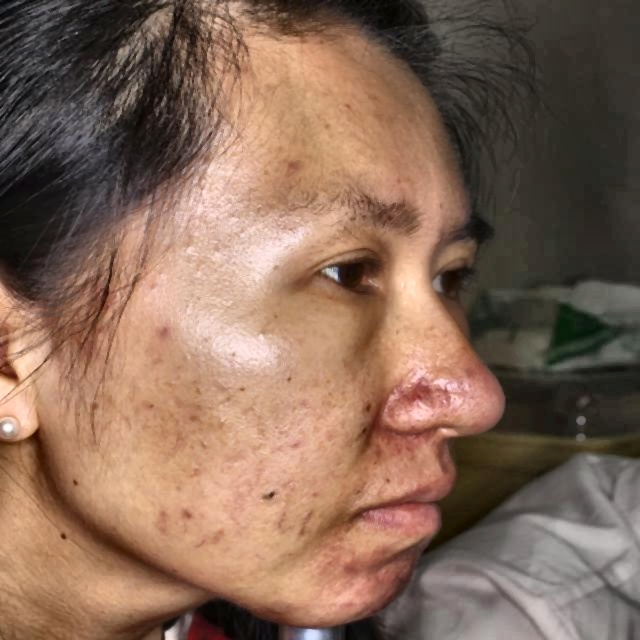pustule: (148, 506, 180, 536), (150, 317, 179, 349), (402, 386, 432, 416), (338, 553, 357, 576), (339, 597, 353, 620), (398, 556, 408, 583), (376, 562, 386, 588)
